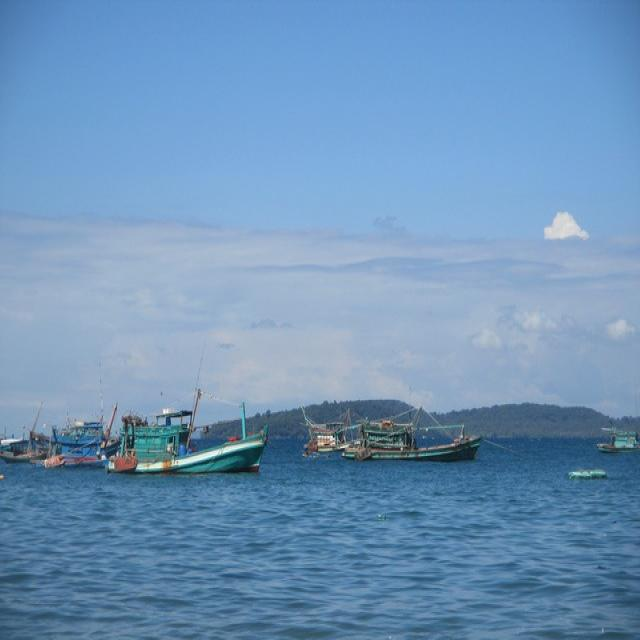fishing boat: (108, 400, 268, 477), (344, 402, 477, 465)
